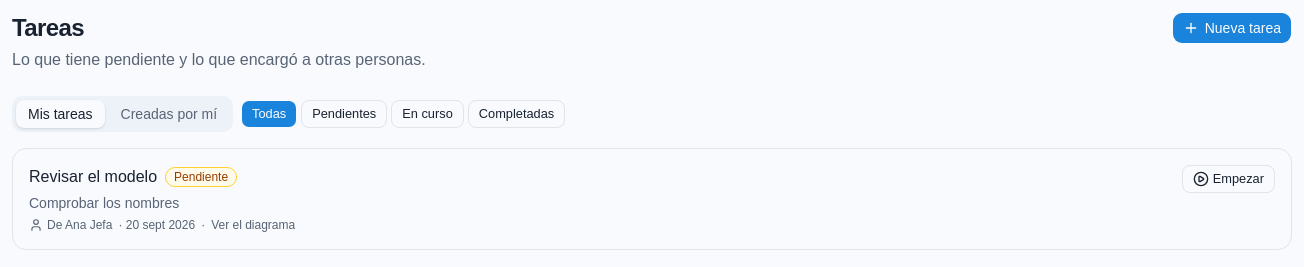
TasksPage (CU-21) › en «Creadas por mí» muestra a quién se la asigné
Check: the text "Revisar el modelo" is shown, box [29,168,157,185]
Click the tab "Creadas por mí" at (169, 114), box [109,100,229,128]
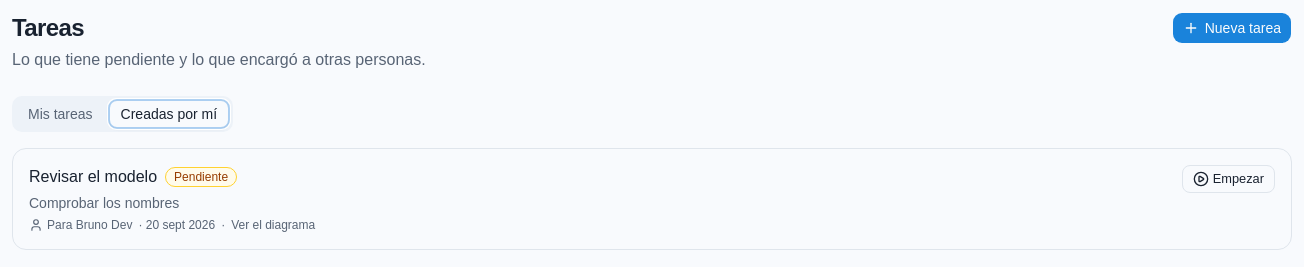
Check: the text "Para Bruno Dev" is shown, box [29,217,132,233]
